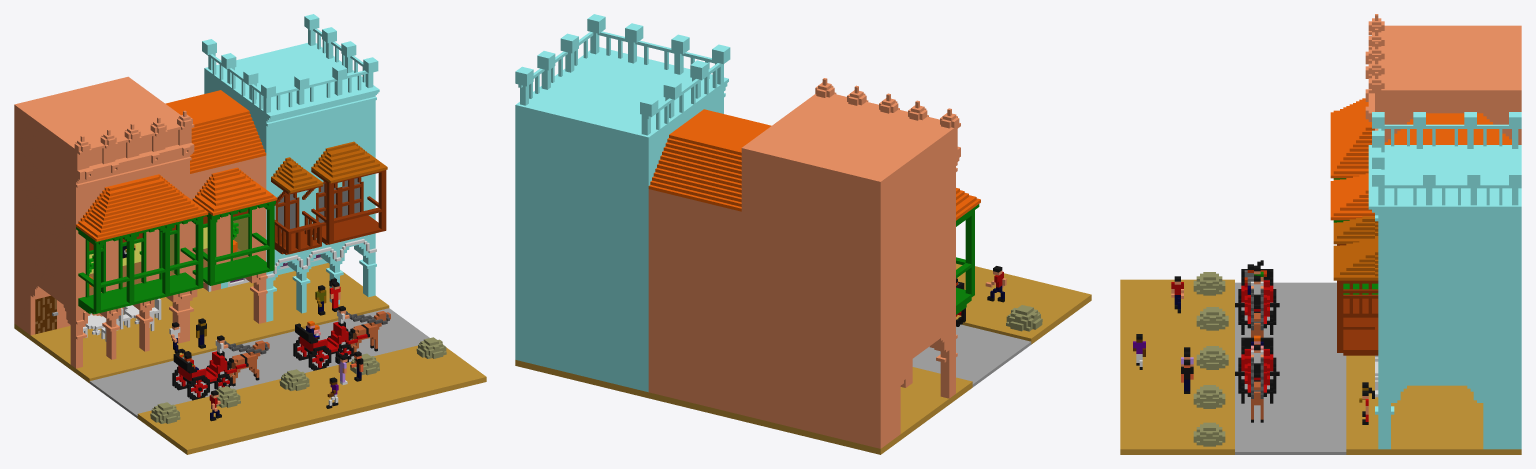
File: calles.glb
3 renders of one model, left to right at view 1: azimuth 30°, elevation 25°; view 2: azimuth 150°, elevation 25°; view 3: azimuth 270°, elevation 25°, orthographic. The views are drawn at different scales.
Parts seen in each view (by area): view 1: Object_2; view 2: Object_2; view 3: Object_2.
Boxes of the visible parts, <box> form: Object_2: <box>14,14,486,454</box>; Object_2: <box>515,14,1091,454</box>; Object_2: <box>1120,14,1521,454</box>.
Bounding box in the file's own units: 126 × 97 × 126.
Materials: 1 (1 with a texture image).
